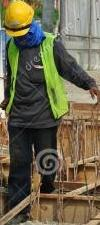boots: (0, 197, 17, 213), (0, 72, 12, 89)
hard-hat: (0, 72, 14, 101)
mask: (0, 96, 12, 118)
vest: (0, 37, 76, 127)
